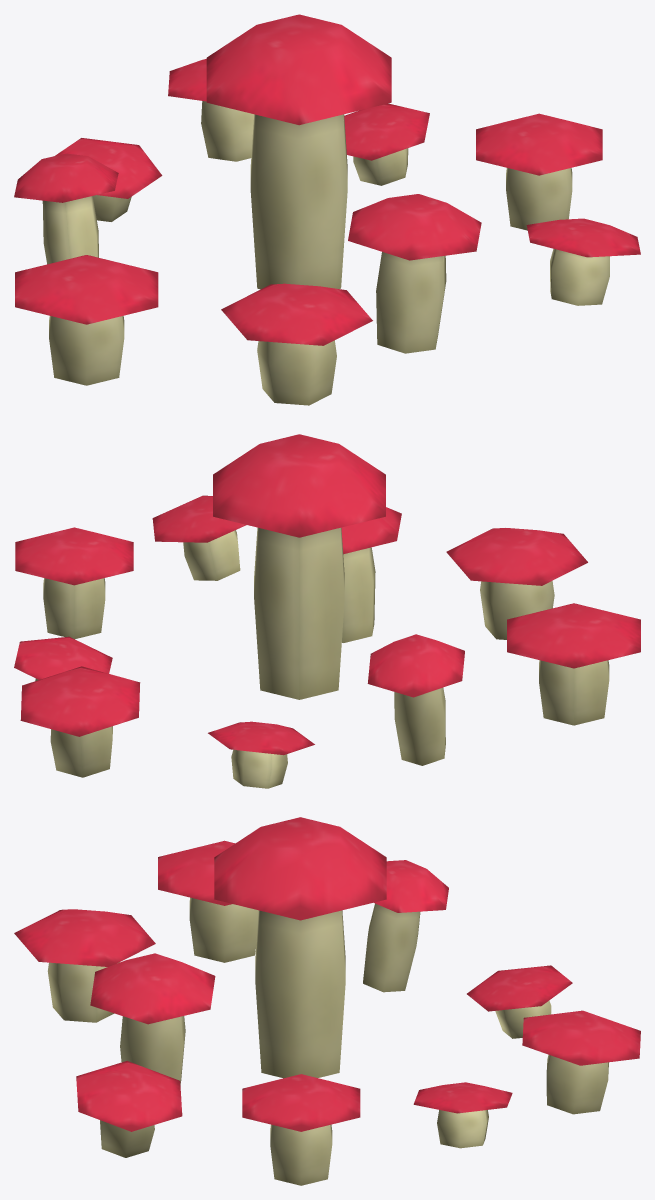
File: Mushrooms_1.FBX
The picture shows the model from 3 angles, top to bottom: view 1: azimuth 30°, elevation 25°; view 2: azimuth 150°, elevation 25°; view 3: azimuth 270°, elevation 25°; orthographic projection. The views are drawn at different scales.
Parts seen in each view (by area): view 1: Mushrooms_1; view 2: Mushrooms_1; view 3: Mushrooms_1.
Part boxes in pixels (left/top/right/bottom): Mushrooms_1: left=14, top=14, right=640, bottom=405; Mushrooms_1: left=14, top=434, right=640, bottom=788; Mushrooms_1: left=14, top=817, right=640, bottom=1185.
Size of the model in its own units: 85.49 by 33.37 by 79.18.
